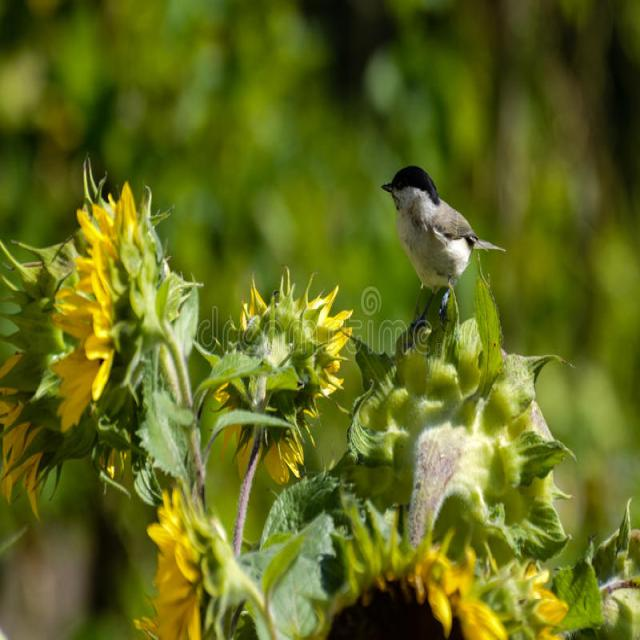sunflower: (49, 185, 176, 454), (210, 277, 353, 501)
